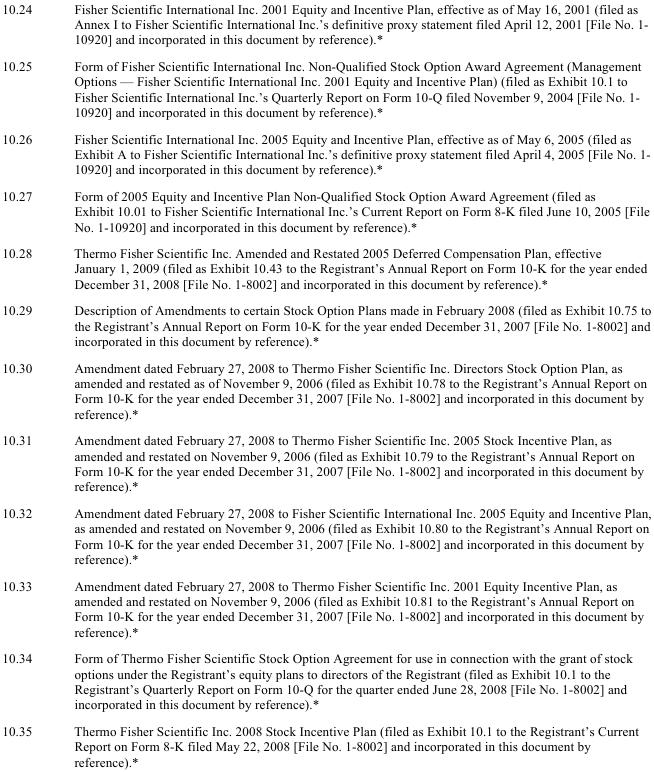table: (1, 0, 650, 768)
table column: (52, 0, 650, 768), (1, 0, 52, 768)
table row: (1, 353, 650, 426), (1, 426, 650, 499), (1, 571, 650, 644), (1, 644, 650, 717), (1, 52, 650, 124), (1, 499, 650, 571), (1, 124, 650, 182), (1, 182, 650, 239), (1, 239, 650, 296), (1, 296, 650, 353), (1, 0, 650, 52), (1, 717, 650, 768)
